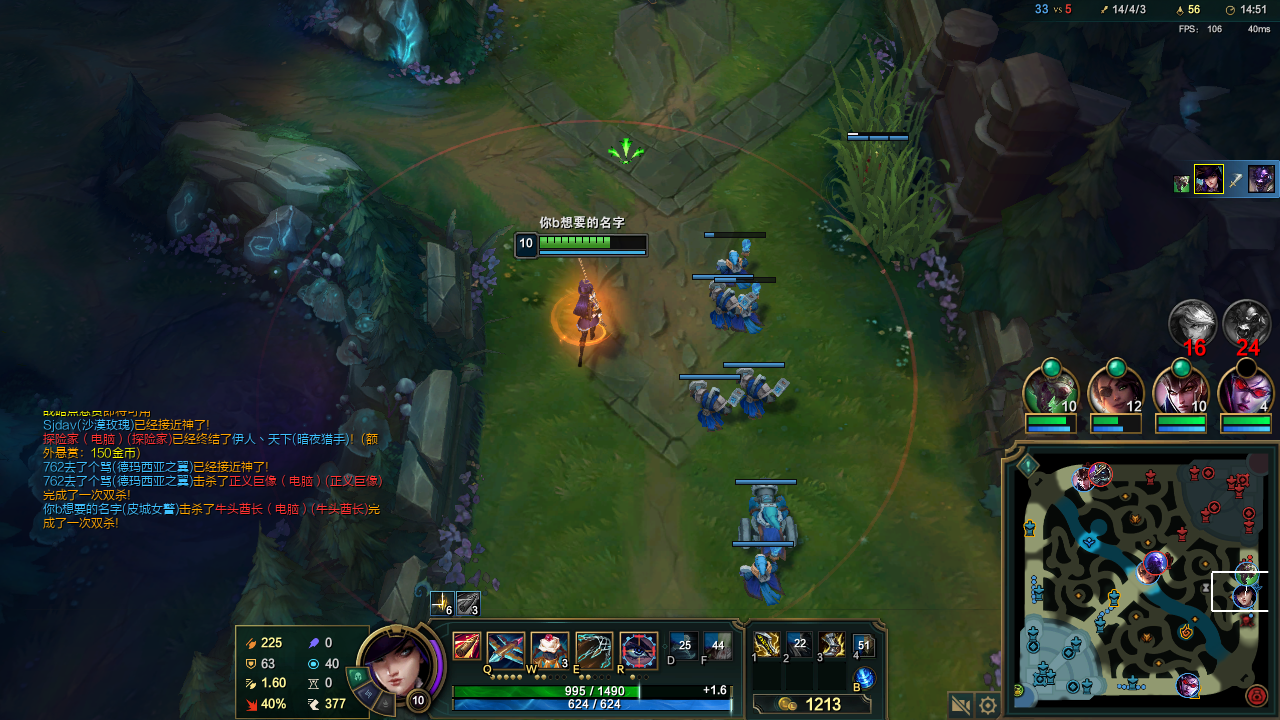WFXB: (743, 486, 804, 549), (734, 375, 787, 426), (684, 379, 732, 425), (743, 548, 783, 596), (731, 294, 763, 329), (718, 249, 752, 280), (704, 286, 735, 318)
